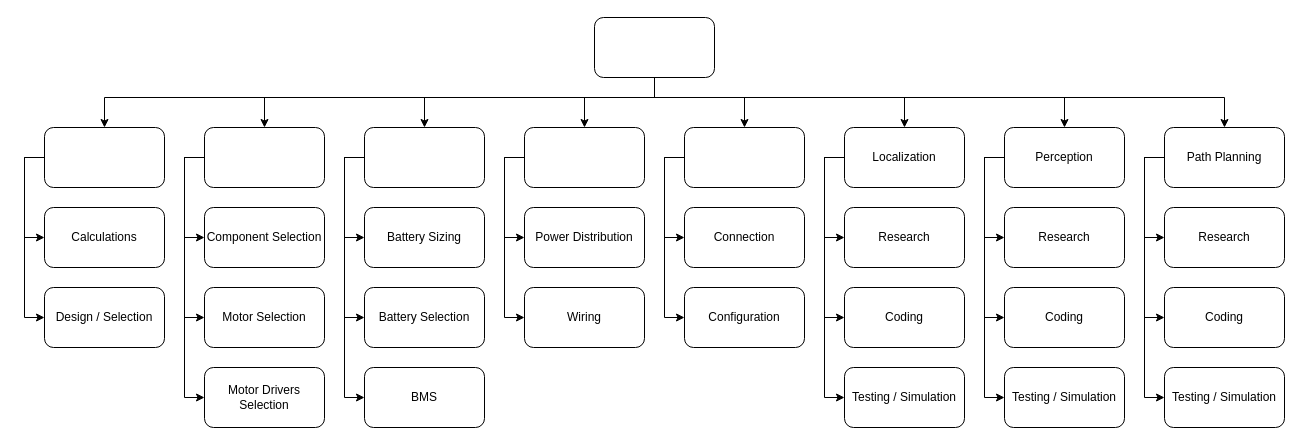
This 1302x445 diagram has some shape labels left out. Each missing label, with the centre of its shape:
Battery: point 424,157
Communication: point 744,157
Drone: point 654,47
Electrical Design: point 264,157
Mechanical Design: point 104,157
Power Regulation & Distribution: point 584,157
